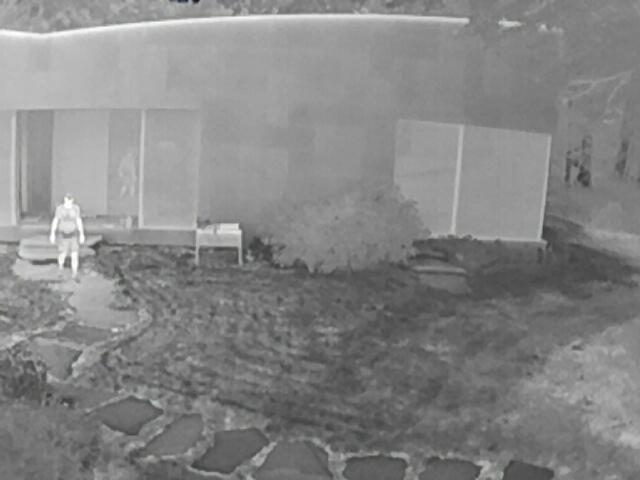person: (50, 192, 84, 284), (115, 145, 138, 204)
